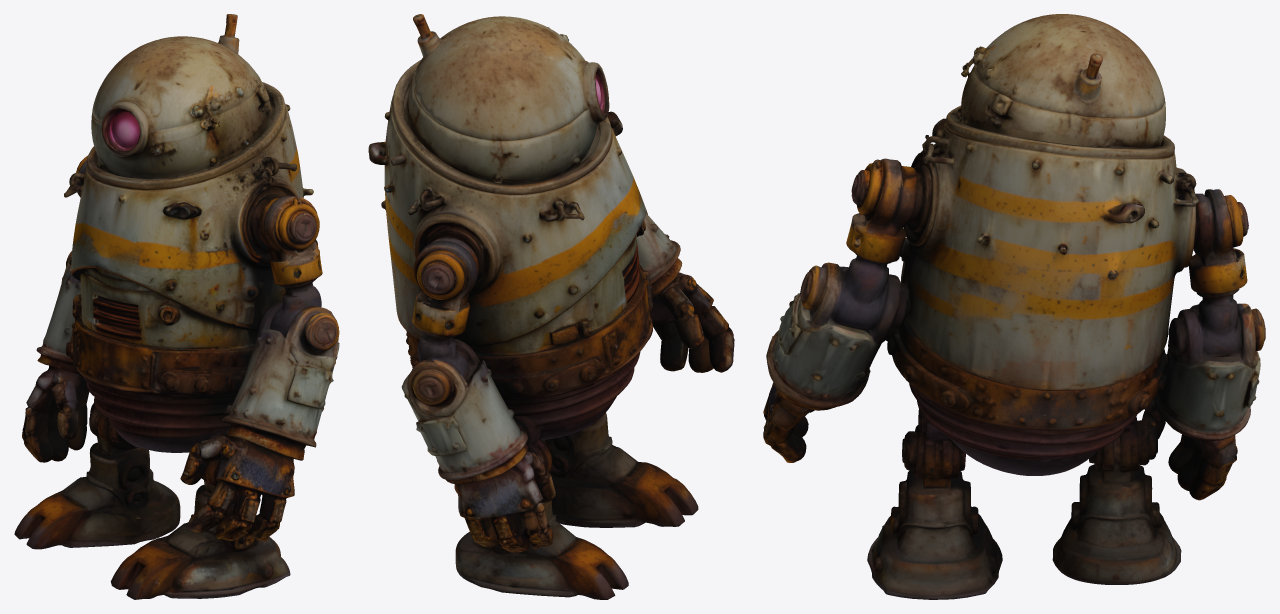
The model's file is pixel-robot-15cm.glb.
3 views of the same model, side by side, from view 1: azimuth 30°, elevation 25°; view 2: azimuth 150°, elevation 25°; view 3: azimuth 270°, elevation 25° (orthographic). The views are drawn at different scales.
Parts seen in each view (by area): view 1: material; view 2: material; view 3: material.
Boxes of the visible parts, left/top/right/bottom form: material: left=14, top=14, right=339, bottom=599; material: left=368, top=14, right=734, bottom=599; material: left=763, top=14, right=1265, bottom=599.
Size of the model in its own units: 0.0785 by 0.1495 by 0.1214.
1 material, 1 textured.
